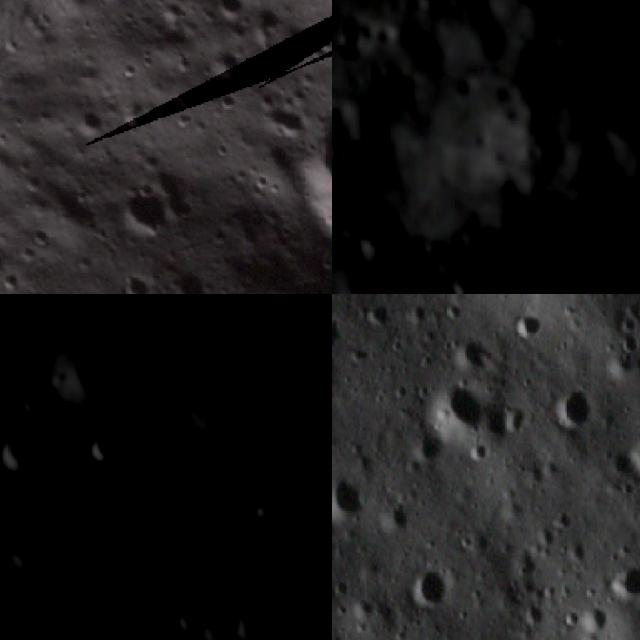crater: (261, 67, 332, 292), (54, 323, 144, 418), (105, 161, 189, 248), (186, 374, 266, 450), (252, 295, 326, 367), (188, 309, 261, 375), (196, 31, 262, 95), (0, 416, 49, 481), (336, 227, 391, 282), (62, 98, 118, 152), (432, 373, 472, 447), (157, 294, 211, 342), (157, 256, 221, 294), (227, 597, 270, 640), (110, 260, 163, 294), (5, 536, 48, 576), (556, 385, 594, 428), (332, 478, 367, 521), (6, 336, 43, 376), (140, 533, 177, 571), (89, 427, 123, 466), (585, 224, 622, 258), (613, 438, 640, 478), (522, 0, 569, 22), (72, 620, 123, 640), (310, 581, 332, 627), (373, 21, 405, 52), (428, 274, 477, 294), (506, 206, 536, 238), (306, 365, 332, 401), (355, 151, 383, 184), (616, 565, 640, 600), (510, 318, 538, 347), (419, 572, 442, 605), (473, 126, 496, 155), (580, 609, 606, 630), (494, 151, 514, 175), (463, 282, 502, 294), (441, 301, 461, 322), (578, 58, 597, 80), (432, 0, 455, 18), (530, 142, 544, 168), (616, 334, 636, 352), (0, 380, 9, 417), (596, 0, 618, 13)
